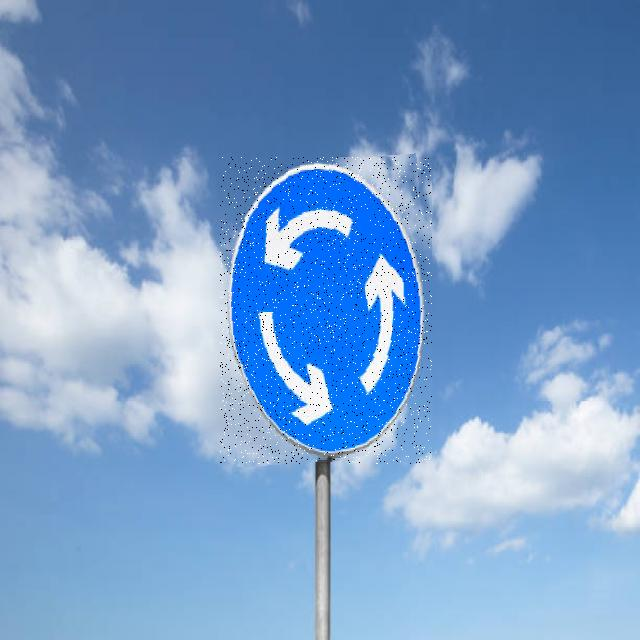roundabout: (220, 157, 432, 464)
